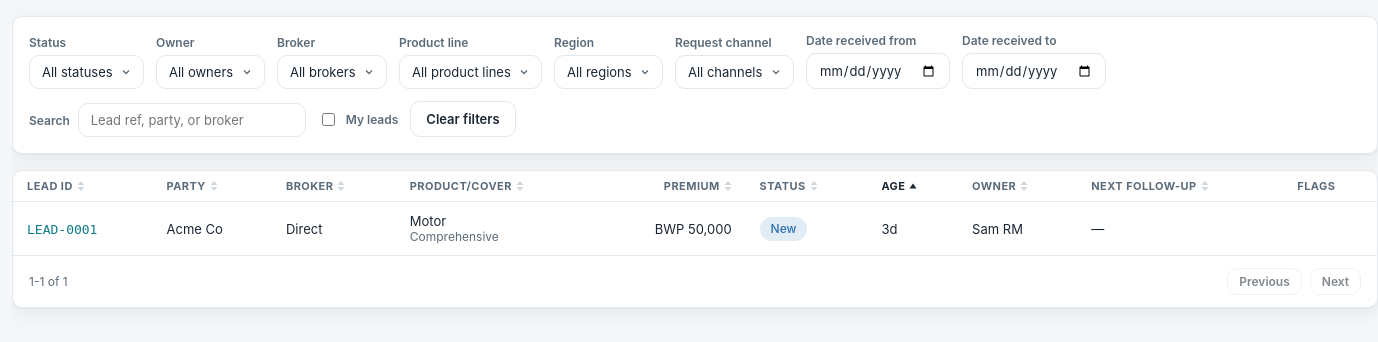
LeadsListPage › click_WhenLeadIdHeaderClicked_ShouldSortAscendingByLeadRefAndSyncUrl
Expected: the table with test id "leads-table" is shown, [13,171,1377,255]
Click the button with test id "sort-header-leadRef": (56, 186) [27,179,85,193]
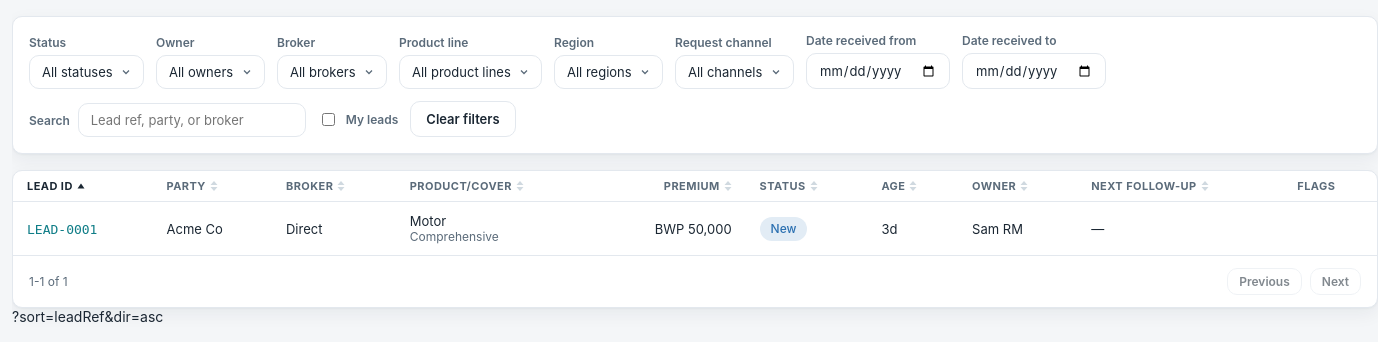
Expected: the text with test id "location-search" shows "sort=leadRef", [12,308,163,325]
Expected: the text with test id "location-search" shows "dir=asc", [12,308,163,325]
